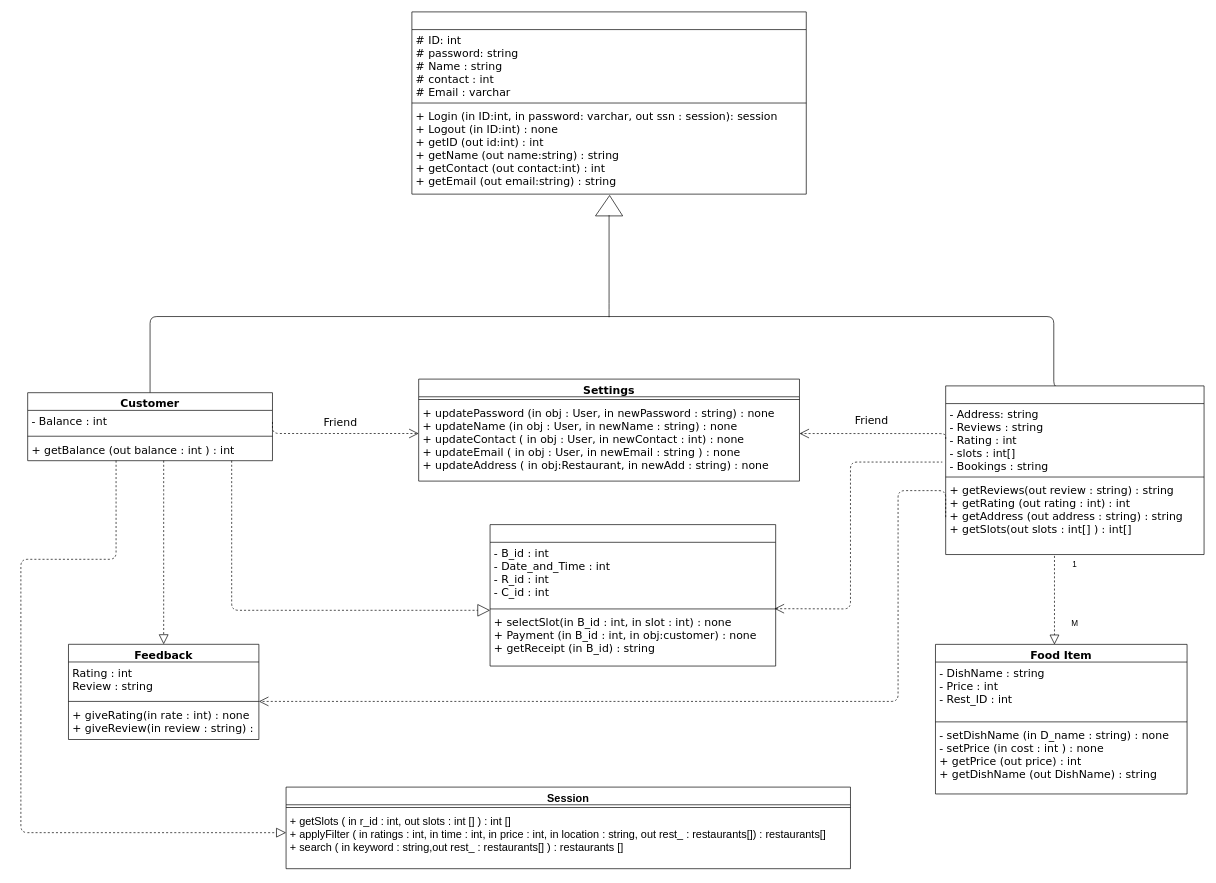
Some shapes in this 1216 by 883 pixel diagram are drawn without their labels. The shapes that lost their labels are listed below. From the top down, each one's box as (x1, y1, x2, y2) in pixels, then its label:
(411, 11, 806, 194): User
(945, 385, 1204, 555): Restaurant
(489, 524, 776, 666): Booking
